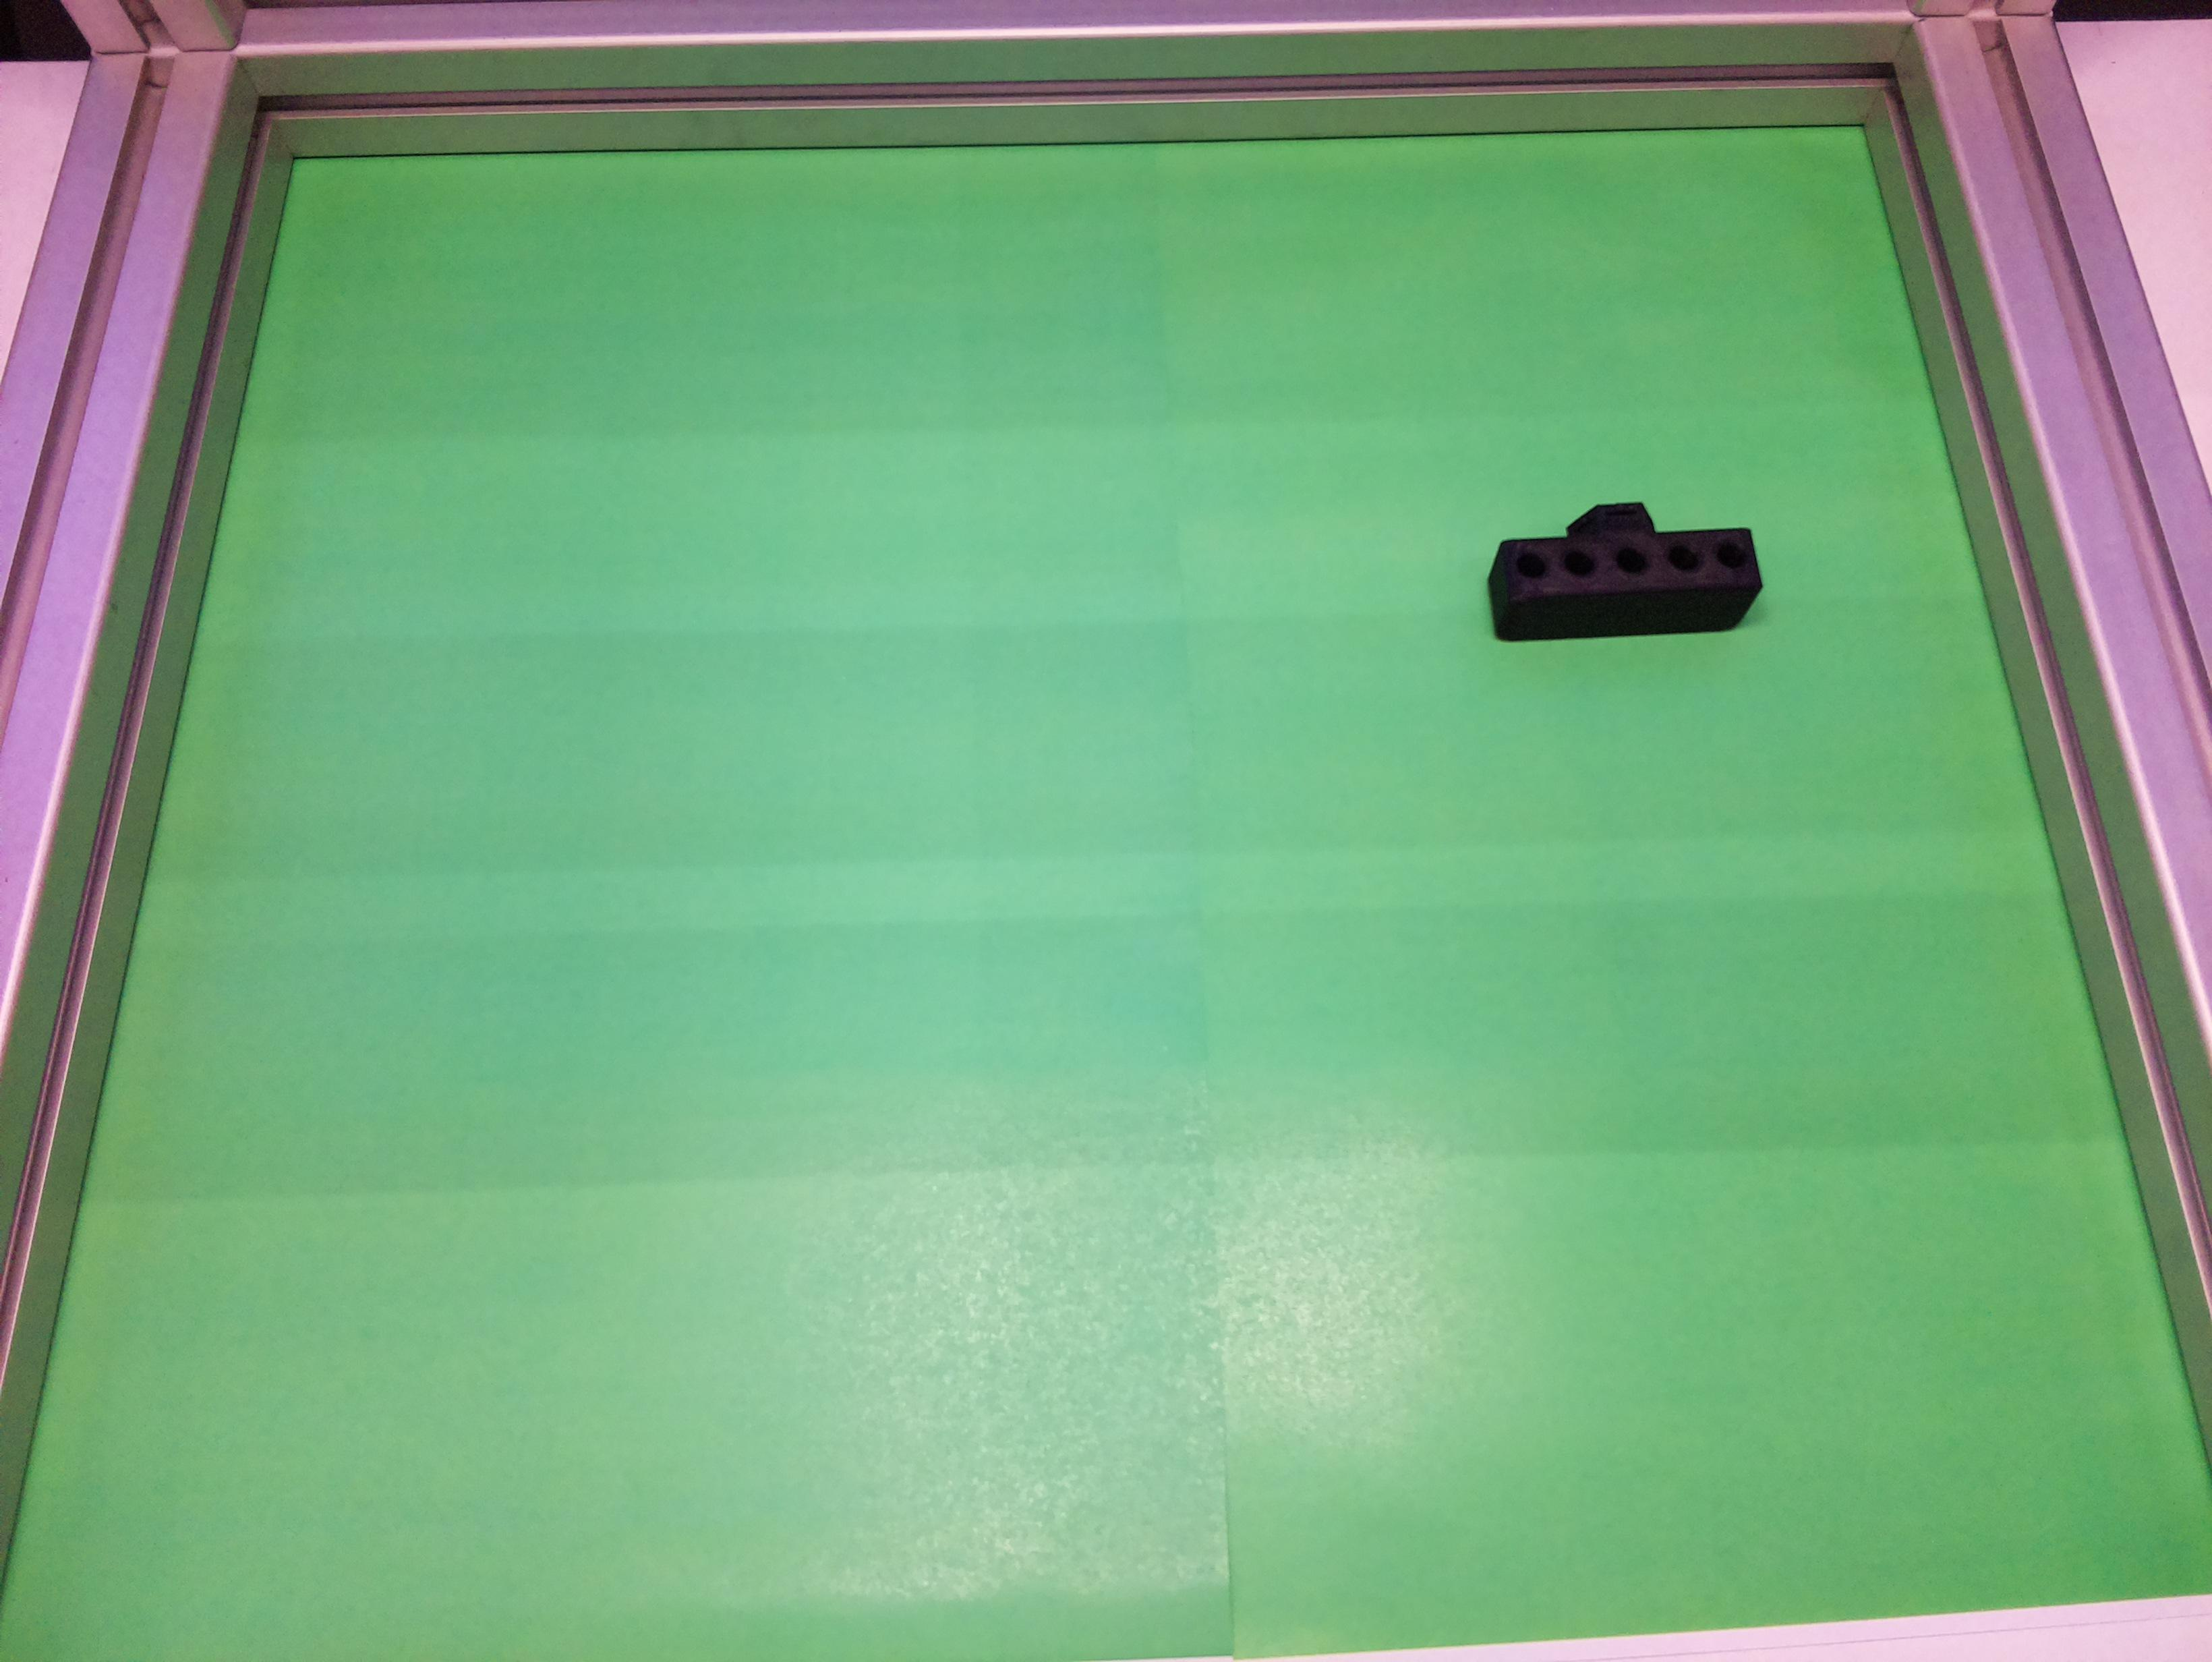bit_holder: (1487, 498, 1762, 641)
